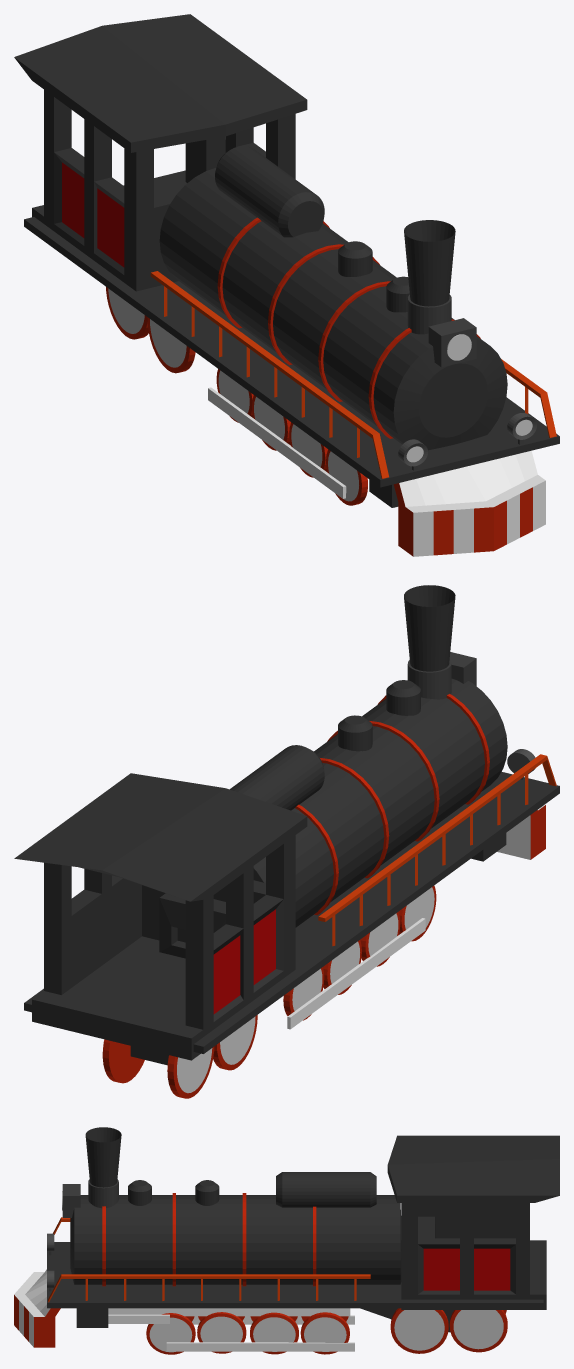
The model's file is parovoZ1.fbx.
The picture shows the model from 3 angles, top to bottom: view 1: azimuth 30°, elevation 25°; view 2: azimuth 150°, elevation 25°; view 3: azimuth 270°, elevation 25°; orthographic projection. The views are drawn at different scales.
Parts seen in each view (by area): view 1: Cylinder, Cube.010, Cube.002, Cube, Cube.009, Cylinder.008, Cylinder.007, Cube.003, Cylinder.003, Cube.004, Cylinder.005, Cube.006 (+9 smaller); view 2: Cube.002, Cylinder, Cube.010, Cube, Cylinder.007, Cylinder.008, Cylinder.003, Cylinder.010, Cube.003, Cylinder.005, Cube.004, Cube.011 (+9 smaller); view 3: Cylinder, Cube.002, Cube.010, Cube, Cylinder.008, Cube.009, Cylinder.012, Cube.004, Cylinder.010, Cylinder.007, Cube.008, Cube.003 (+14 smaller).
Part boxes in pixels (<box>): Cylinder: <box>159,168,507,450</box>; Cube.010: <box>14,14,307,152</box>; Cube.002: <box>32,89,295,291</box>; Cube: <box>24,217,559,487</box>; Cube.009: <box>393,450,545,556</box>; Cylinder.008: <box>215,146,324,237</box>; Cylinder.007: <box>404,220,455,306</box>; Cube.003: <box>150,271,556,478</box>; Cylinder.003: <box>217,217,480,438</box>; Cube.004: <box>208,387,346,498</box>; Cylinder.005: <box>338,241,409,312</box>; Cube.006: <box>428,318,476,367</box>; Cube.002: <box>32,835,295,1060</box>; Cylinder: <box>253,678,507,927</box>; Cube.010: <box>14,773,307,901</box>; Cube: <box>24,771,559,1053</box>; Cylinder.007: <box>404,585,455,671</box>; Cylinder.008: <box>230,745,324,810</box>; Cylinder.003: <box>295,694,489,915</box>; Cylinder.010: <box>102,1039,214,1098</box>; Cube.003: <box>318,754,556,921</box>; Cylinder.005: <box>338,680,420,751</box>; Cube.004: <box>287,918,425,1029</box>; Cube.011: <box>159,893,225,958</box>; Cylinder: <box>70,1195,401,1284</box>; Cube.002: <box>401,1203,546,1309</box>; Cube.010: <box>387,1135,559,1202</box>; Cube: <box>47,1242,543,1308</box>; Cylinder.008: <box>276,1172,376,1207</box>; Cube.009: <box>14,1269,60,1347</box>; Cylinder.012: <box>390,1308,448,1353</box>; Cube.004: <box>166,1315,354,1351</box>; Cylinder.010: <box>449,1310,507,1352</box>; Cylinder.007: <box>85,1127,121,1187</box>; Cube.008: <box>108,1308,350,1316</box>; Cube.003: <box>48,1217,370,1302</box>.
Bounding box in the file's own units: 298 × 474 × 1128.
